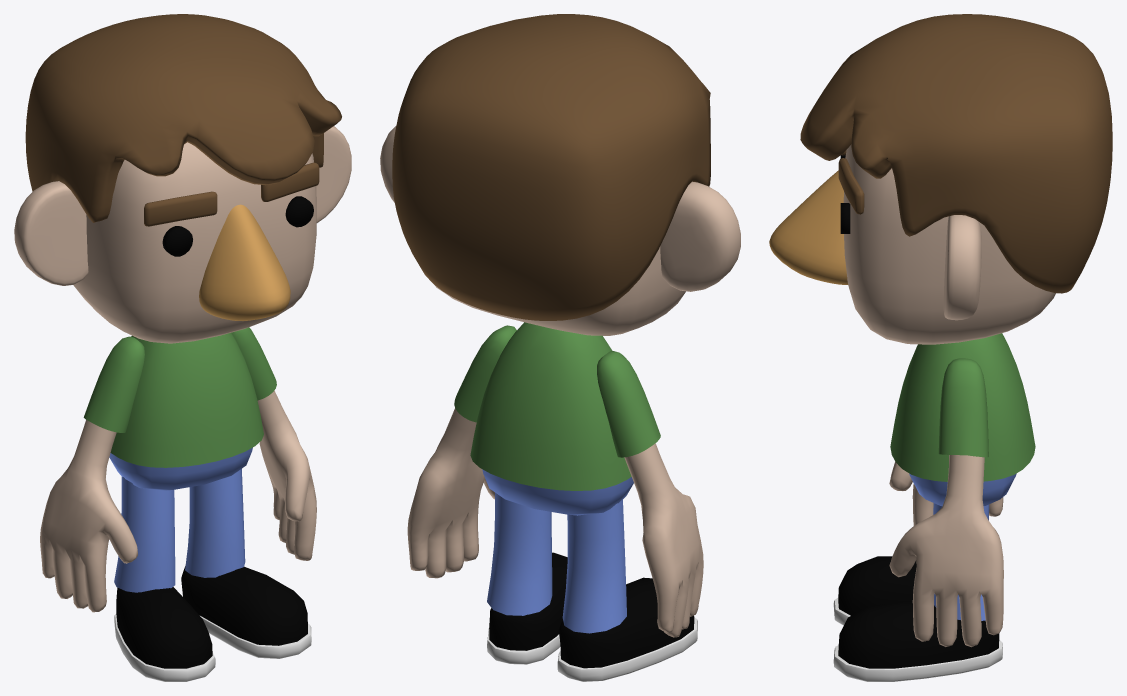
File: avatar.gltf
3 renders of one model, left to right at view 1: azimuth 30°, elevation 25°; view 2: azimuth 150°, elevation 25°; view 3: azimuth 270°, elevation 25°, orthographic. The views are drawn at different scales.
Visible parts, largest first — view 1: Hair-Parted, Head, Arms-Down, Shoes, Body, Pants, Nose, Sleeves-Down, Eyebrows, PantsTop, Eyes; view 2: Hair-Parted, Body, Arms-Down, Pants, Head, Shoes, Sleeves-Down, PantsTop; view 3: Hair-Parted, Head, Arms-Down, Body, Shoes, Nose, Sleeves-Down, PantsTop, Eyebrows.
Part boxes in pixels (<box>): Hair-Parted: <box>25,14,341,222</box>; Head: <box>14,126,351,343</box>; Arms-Down: <box>40,390,316,612</box>; Shoes: <box>114,566,311,681</box>; Body: <box>110,333,263,467</box>; Pants: <box>114,469,245,592</box>; Nose: <box>199,204,290,320</box>; Sleeves-Down: <box>83,327,276,432</box>; Eyebrows: <box>144,162,319,226</box>; PantsTop: <box>109,447,252,490</box>; Eyes: <box>162,196,313,256</box>; Hair-Parted: <box>392,14,710,320</box>; Body: <box>470,322,631,490</box>; Arms-Down: <box>407,408,703,637</box>; Pants: <box>487,492,626,633</box>; Head: <box>380,126,740,335</box>; Shoes: <box>487,552,697,681</box>; Sleeves-Down: <box>454,325,660,457</box>; PantsTop: <box>482,469,633,515</box>; Hair-Parted: <box>800,14,1112,293</box>; Head: <box>843,144,1055,344</box>; Arms-Down: <box>889,455,1003,647</box>; Body: <box>890,333,1035,481</box>; Shoes: <box>833,556,1002,681</box>; Nose: <box>769,170,848,284</box>; Sleeves-Down: <box>938,358,988,457</box>; PantsTop: <box>909,473,1016,506</box>; Eyebrows: <box>838,150,864,214</box>.
Bounding box in the file's own units: 0.3994 × 0.6746 × 0.3491.
